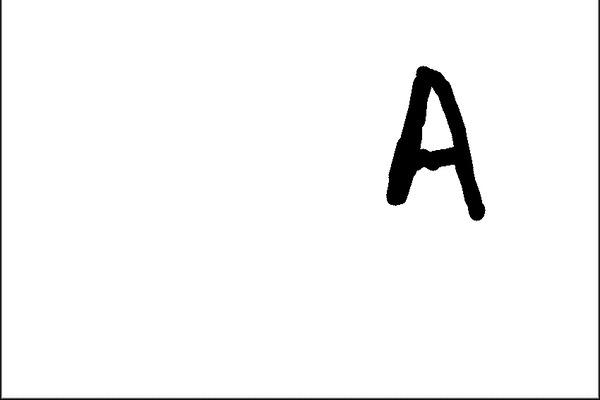A: (379, 59, 497, 226)
